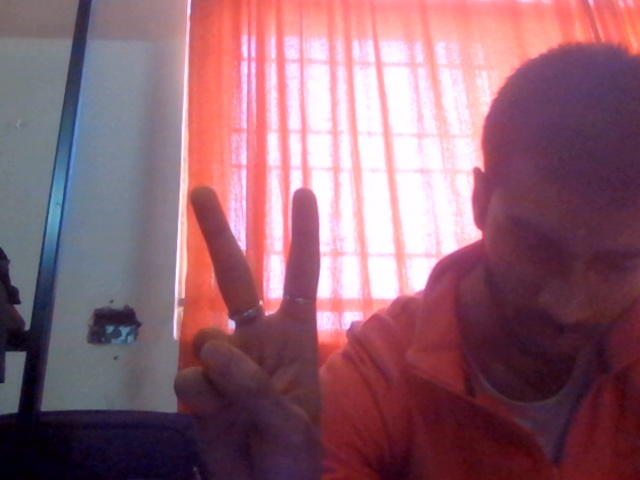V: (126, 149, 358, 480)
